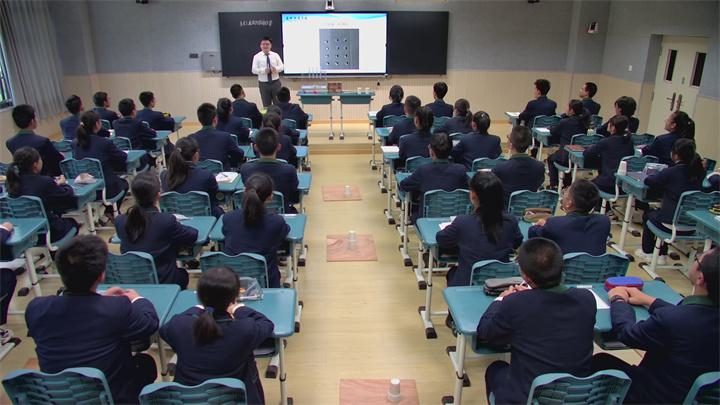listen: (29, 238, 159, 366), (489, 246, 592, 360), (163, 271, 273, 373), (619, 253, 720, 346), (438, 172, 523, 255), (227, 171, 299, 249), (124, 177, 197, 246), (545, 184, 615, 238), (417, 136, 482, 194), (7, 147, 63, 206), (589, 114, 642, 175), (247, 129, 298, 192), (495, 127, 554, 177), (655, 142, 698, 202), (190, 105, 237, 156), (160, 141, 217, 182), (73, 115, 119, 163), (516, 73, 563, 119), (115, 101, 155, 150), (397, 110, 437, 150), (6, 101, 43, 142), (658, 105, 698, 140), (138, 90, 173, 125)
